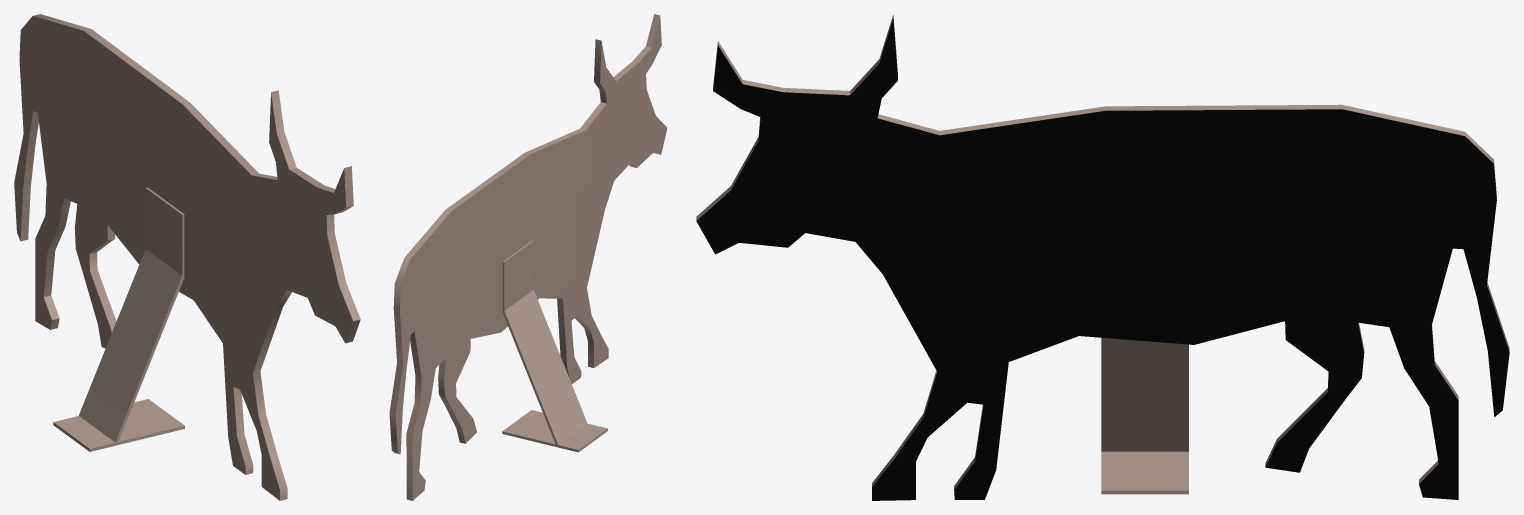
3 views of the same model, side by side, from view 1: azimuth 30°, elevation 25°; view 2: azimuth 150°, elevation 25°; view 3: azimuth 270°, elevation 25° (orthographic). The views are drawn at different scales.
Parts seen in each view (by area): view 1: Ku 1; view 2: Ku 1; view 3: Ku 1.
Part boxes in pixels (x1,y1,x2,y2): Ku 1: (14, 14, 360, 500); Ku 1: (389, 14, 667, 500); Ku 1: (696, 15, 1509, 500).
Bounding box in the file's own units: 40.25 × 152 × 232.
